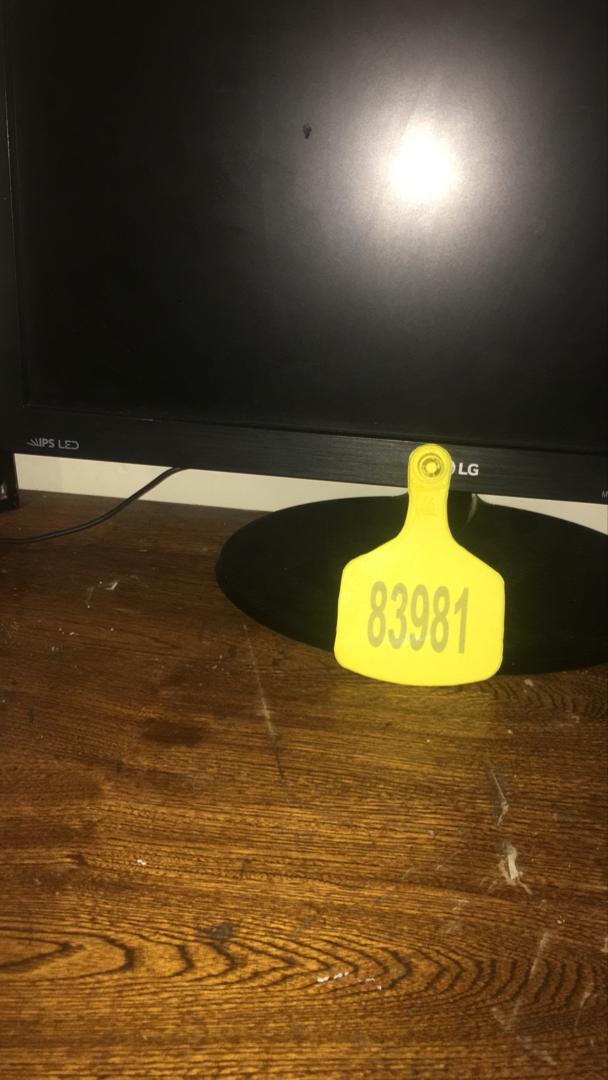digit: (363, 575, 474, 659)
